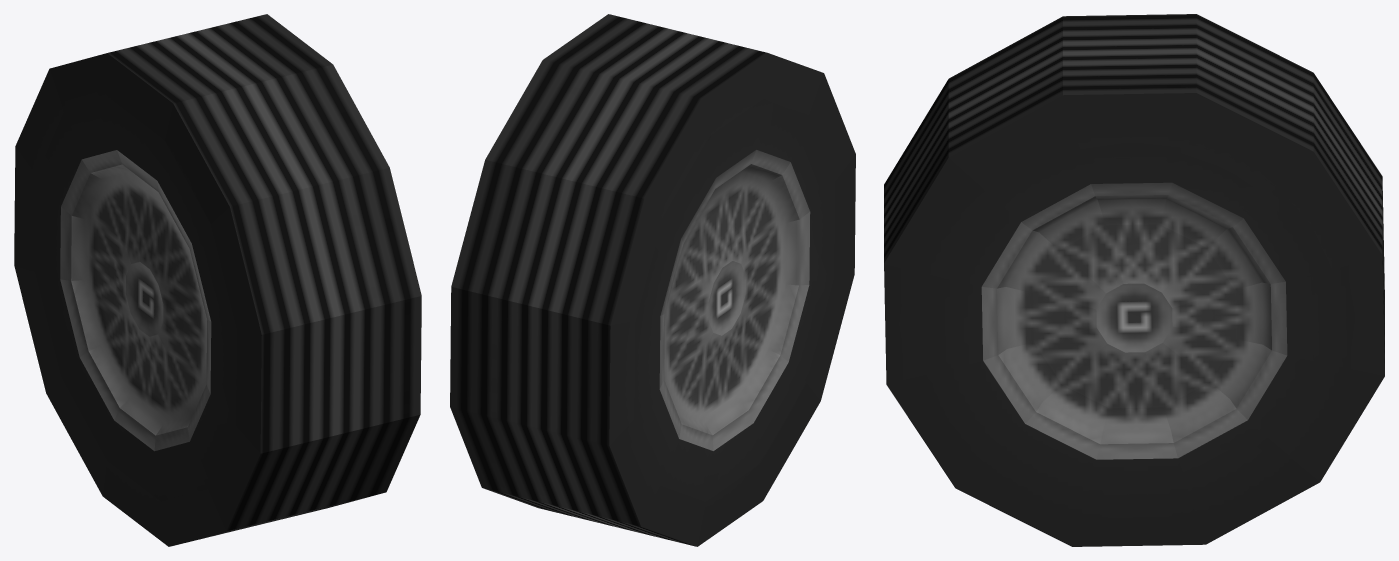
Rendered from GavrilGrandMarshalWheel.fbx.
3 renders of one model, left to right at view 1: azimuth 30°, elevation 25°; view 2: azimuth 150°, elevation 25°; view 3: azimuth 270°, elevation 25°, orthographic.
Parts seen in each view (by area): view 1: GavrilWheel; view 2: GavrilWheel; view 3: GavrilWheel.
Boxes of the visible parts, x1,y1,x2,y2 form: GavrilWheel: [14, 14, 421, 546]; GavrilWheel: [450, 14, 855, 546]; GavrilWheel: [884, 14, 1384, 546].
Bounding box in the file's own units: 0.3644 × 0.9486 × 0.9486.
